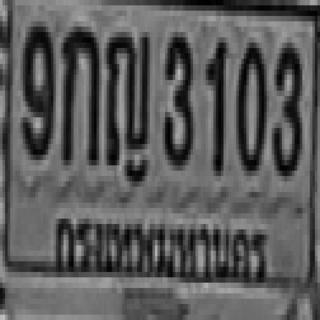A01: (60, 21, 98, 160)
A13: (105, 24, 149, 163)
N00: (234, 37, 264, 171)
N01: (204, 35, 225, 168)
N03: (269, 37, 300, 171), (162, 29, 190, 163)
N09: (19, 16, 52, 155)
P04: (48, 199, 270, 289)
